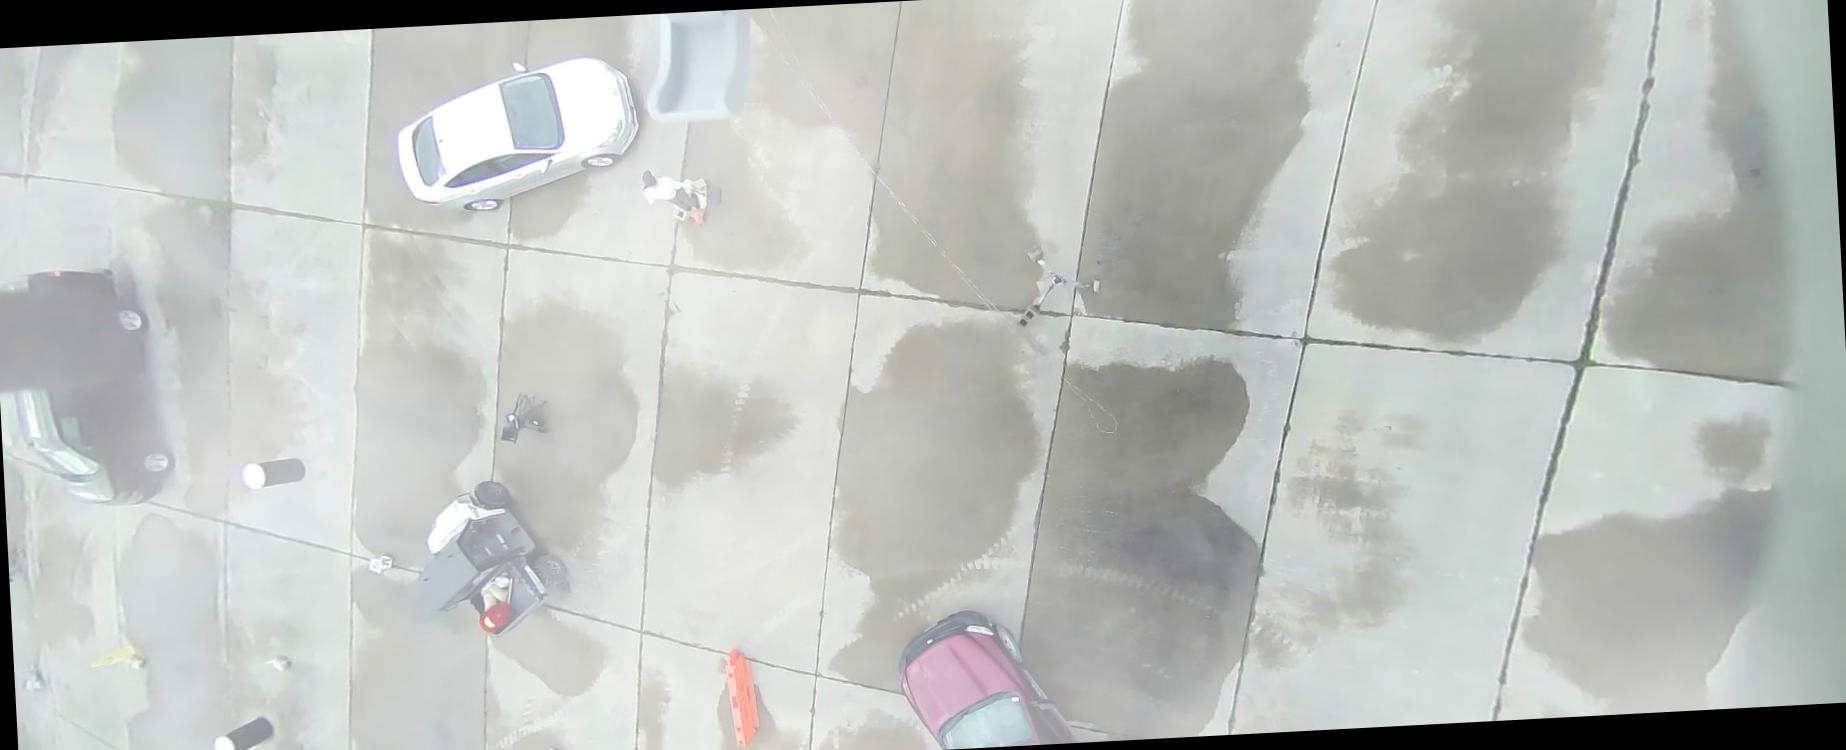vehicle: (1, 265, 179, 511), (393, 53, 645, 218), (412, 476, 569, 644), (896, 604, 1077, 749)
